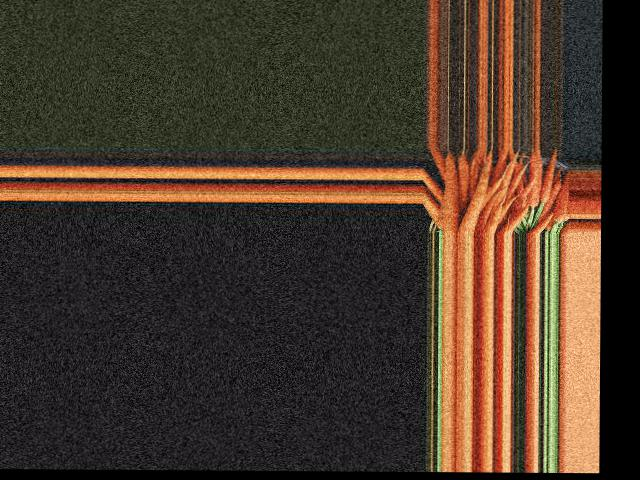carrot: (554, 175, 570, 224)
